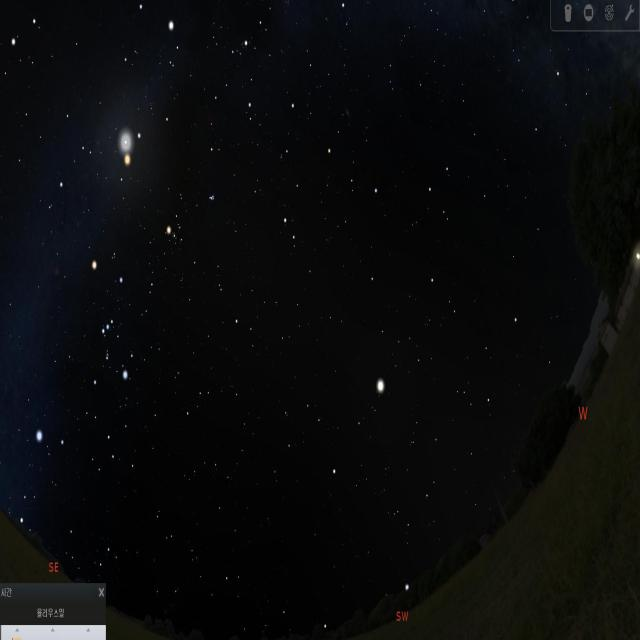canis_major: (18, 421, 68, 522)
gemini: (4, 0, 102, 164)
moon: (108, 124, 140, 165)
orion: (87, 241, 133, 396)
pleiades: (206, 188, 224, 212)
taurus: (166, 186, 227, 276)
